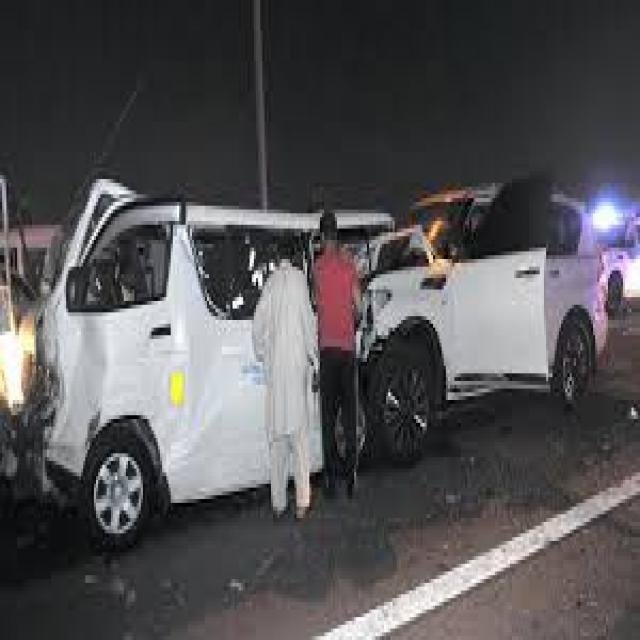accident: (0, 64, 622, 568)
